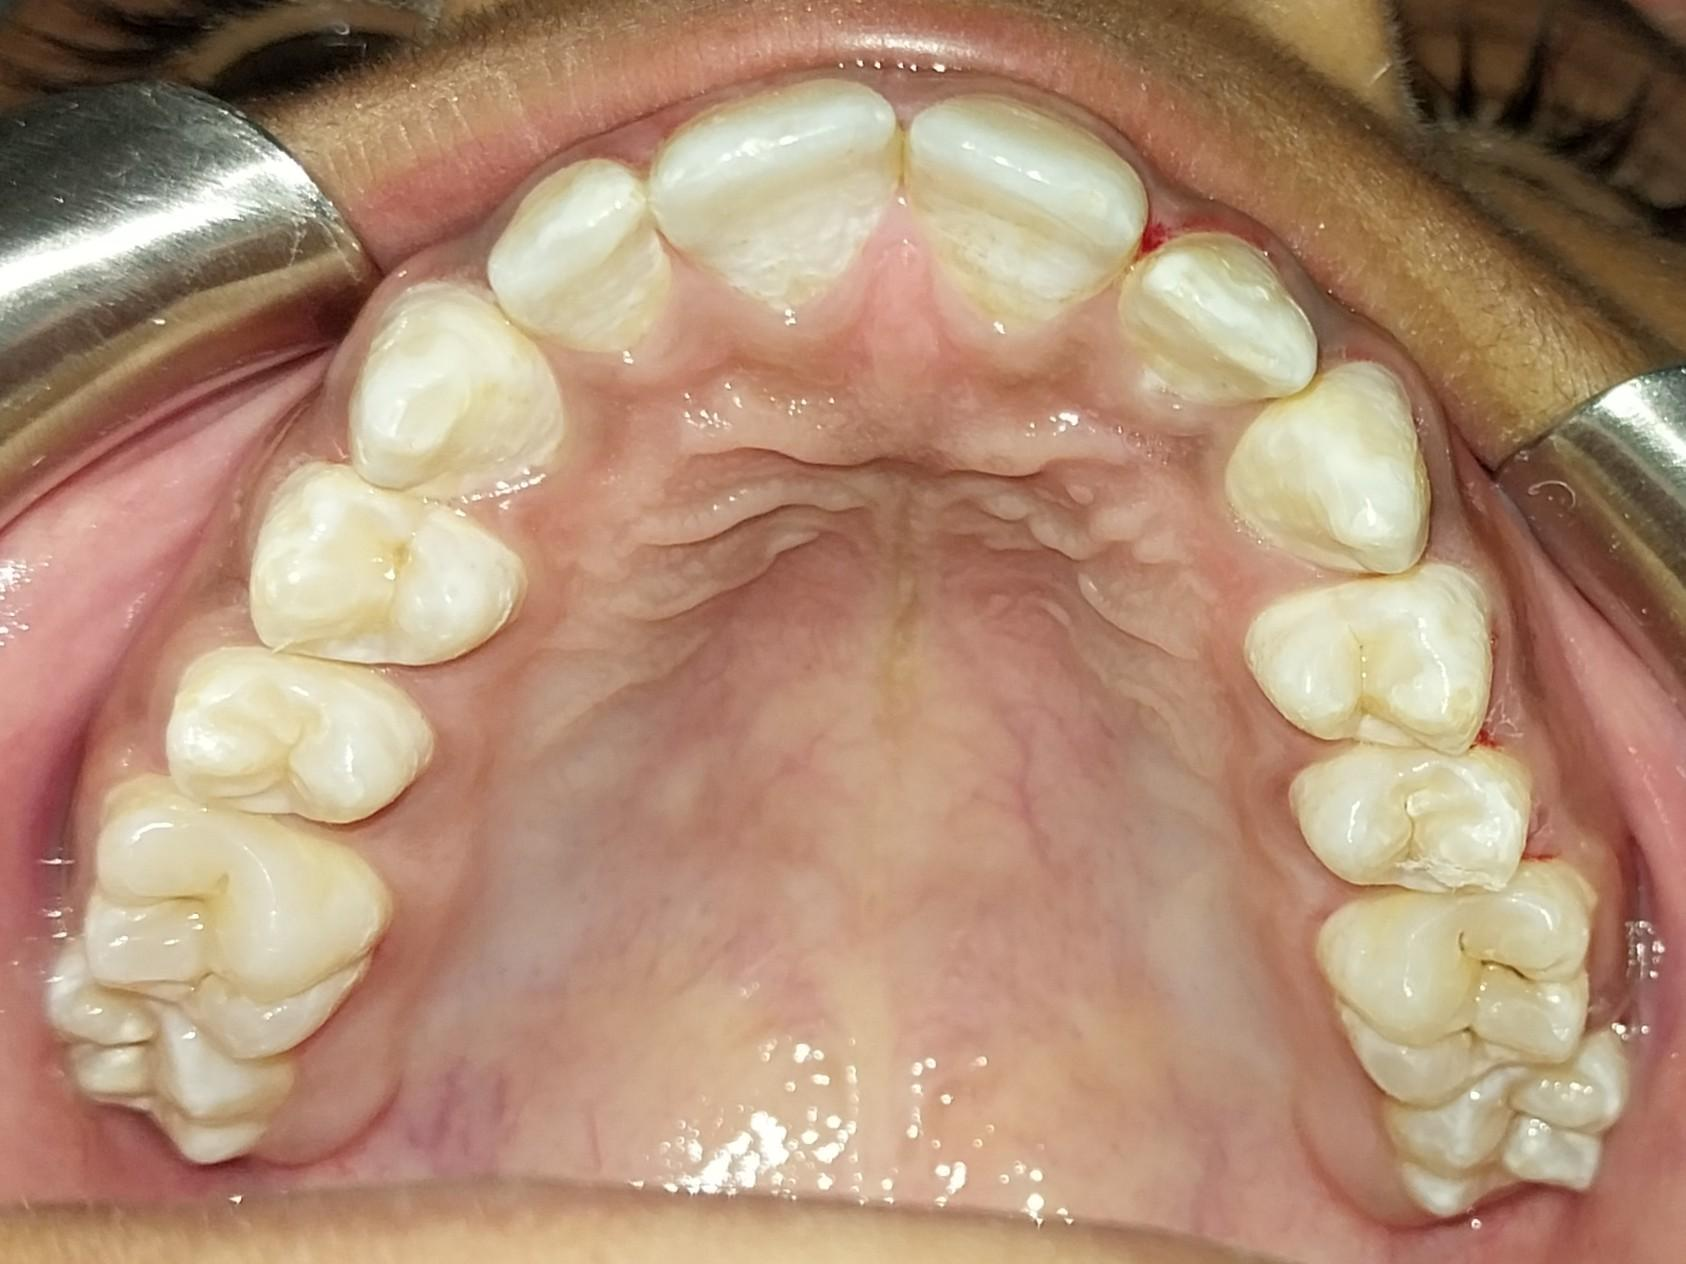D: (1316, 882, 1597, 1105)
